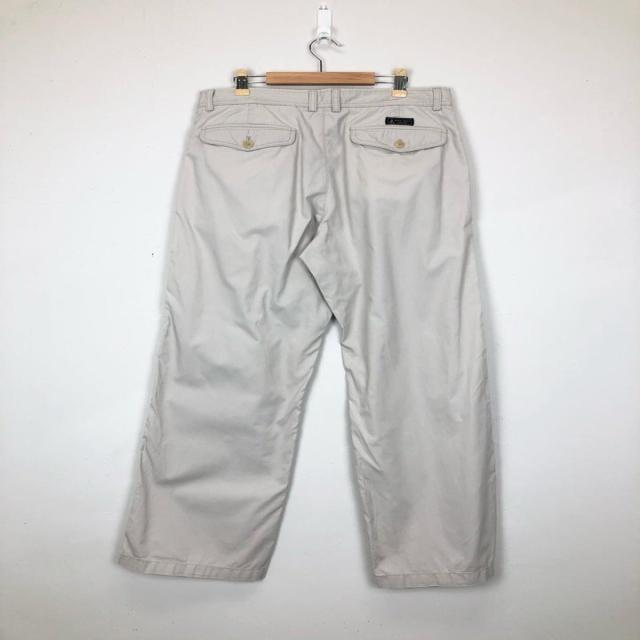long-pants: (110, 82, 489, 593)
